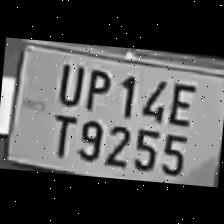1: (110, 66, 140, 118)
2: (100, 118, 133, 169)
4: (134, 71, 168, 122)
5: (156, 124, 190, 176), (128, 122, 160, 170)
9: (73, 113, 104, 164)
E: (166, 76, 197, 124)
P: (79, 62, 112, 111)
T: (43, 106, 76, 158)
U: (51, 56, 84, 106)
